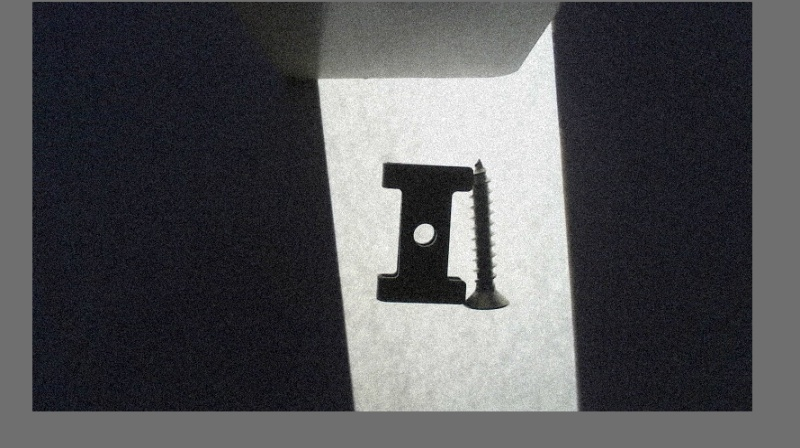O002: (375, 161, 472, 305)
S001: (461, 158, 510, 312)
